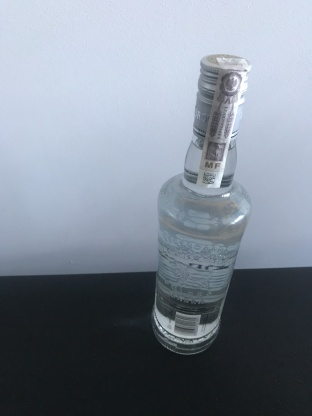nakretka: (191, 51, 252, 142)
